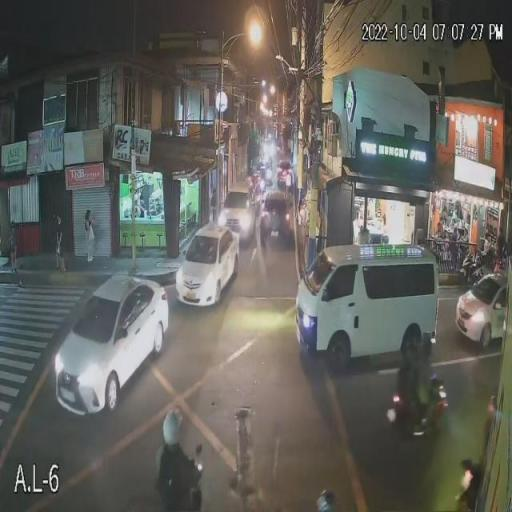helmet: (156, 407, 188, 448), (399, 336, 420, 365), (414, 331, 436, 356)
motorcycle: (147, 440, 209, 512), (384, 387, 452, 438)
rider: (153, 444, 198, 504), (395, 364, 430, 436), (417, 356, 435, 408)
